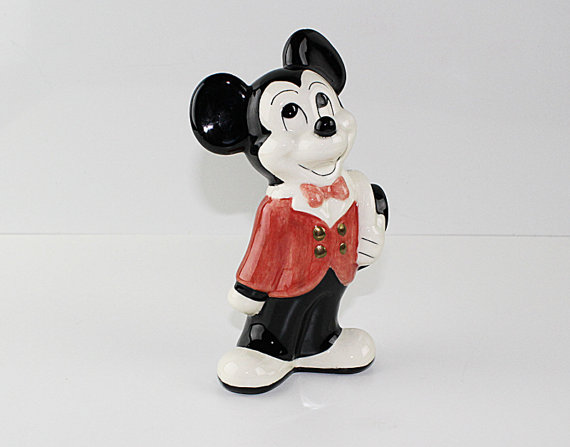Mickey: (187, 26, 358, 189)
